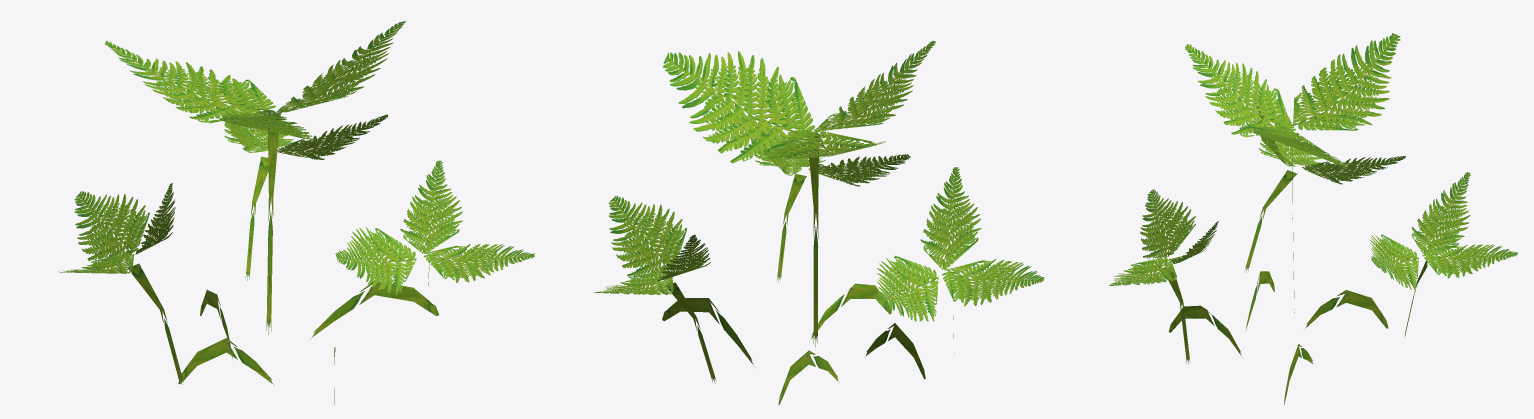
File: ExportedBlenderFBXFile.fbx
3 views of the same model, side by side, from view 1: azimuth 30°, elevation 25°; view 2: azimuth 150°, elevation 25°; view 3: azimuth 270°, elevation 25° (orthographic). The views are drawn at different scales.
Parts seen in each view (by area): view 1: Cube; view 2: Cube; view 3: Cube.
Part boxes in pixels (left/top/right/bottom): Cube: left=58, top=20, right=534, bottom=404; Cube: left=593, top=40, right=1044, bottom=404; Cube: left=1109, top=33, right=1517, bottom=404.
Size of the model in its own units: 1.93 by 1.44 by 2.04.
